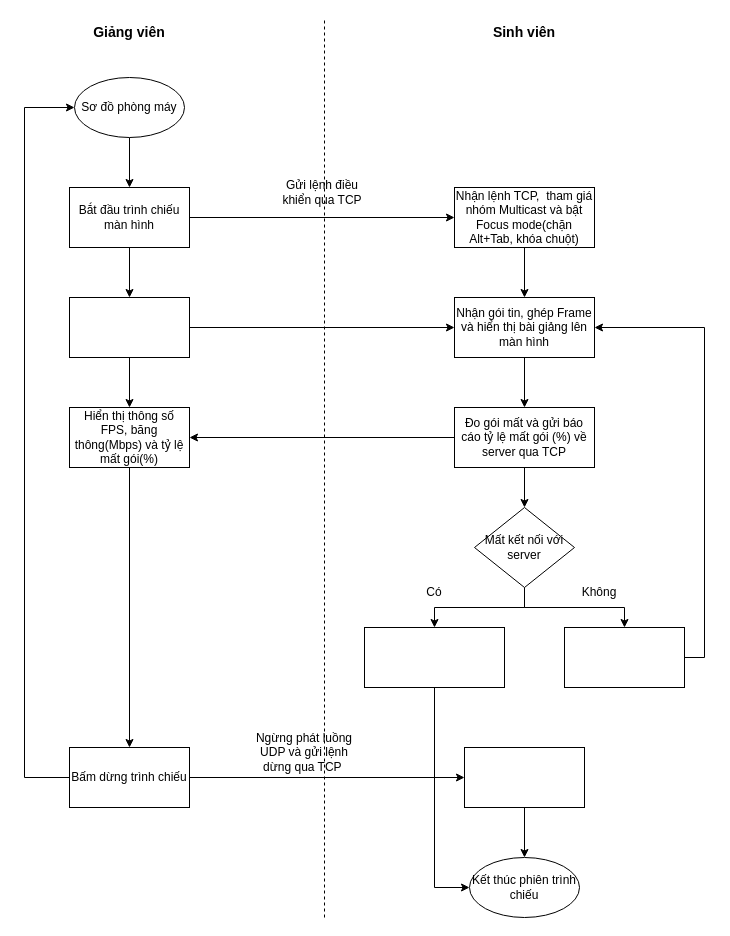
This 730x936 diagram has some shape labels left out. The shapes that lost their labels are listed below. From the top down, each one's centre as x and y in pixels, then its label:
point (129, 327): Bóp nén màn hình và phát luồng video UDP Multicast
point (434, 657): Thoát nhóm Multicast, thoát Focus mode, mở khóa chuột và phím
point (624, 657): Tiếp tục hiển thị màn hình trình chiếu
point (524, 777): Nhận lệnh dừng, thoát nhóm Multicast, mở khóa chuột và phím
